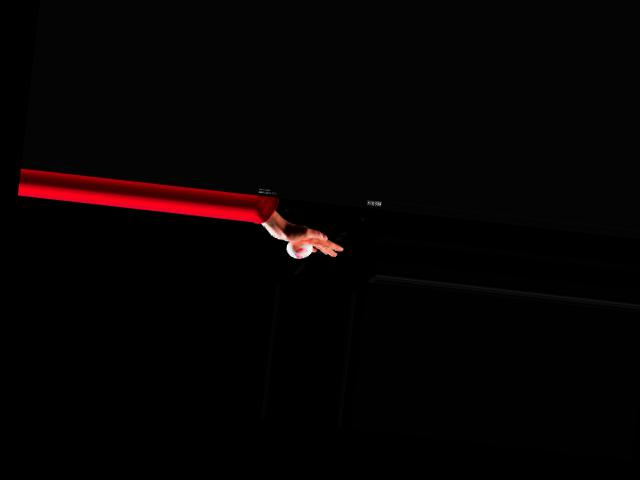egg: (284, 239, 312, 259)
